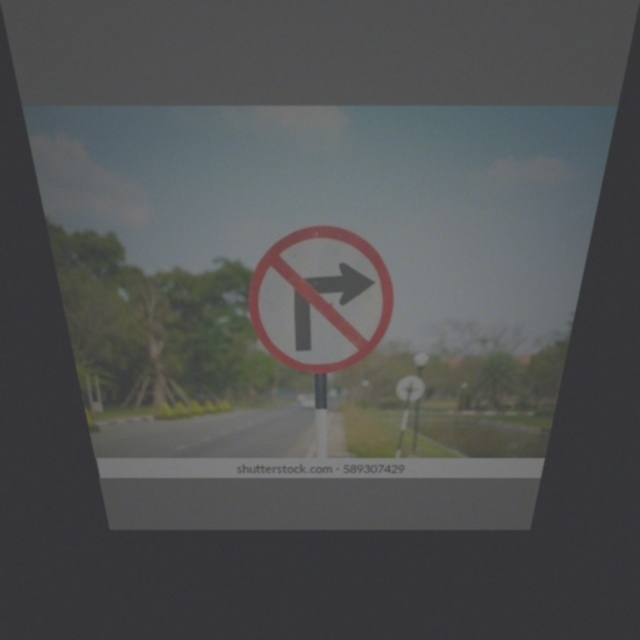Right_Turn_Prohibited: (243, 226, 400, 375)
